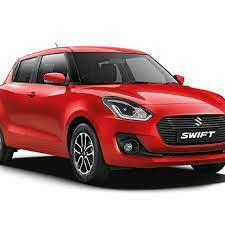Hatchback: (0, 42, 225, 186)
